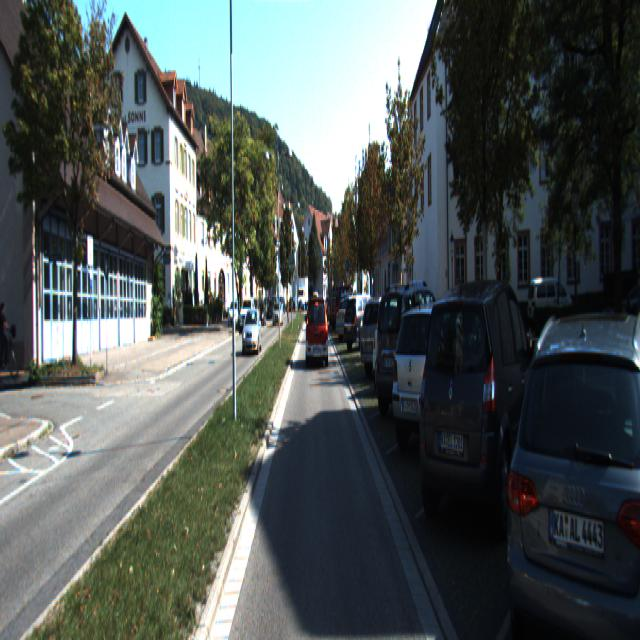Car: (498, 312, 639, 638), (416, 282, 546, 560), (387, 296, 493, 467), (371, 286, 457, 426), (368, 300, 432, 400), (357, 297, 419, 377), (343, 293, 387, 350), (307, 297, 329, 369), (335, 296, 370, 341), (329, 289, 358, 331), (243, 310, 263, 356), (240, 300, 255, 336), (228, 299, 239, 327), (272, 302, 283, 326)
